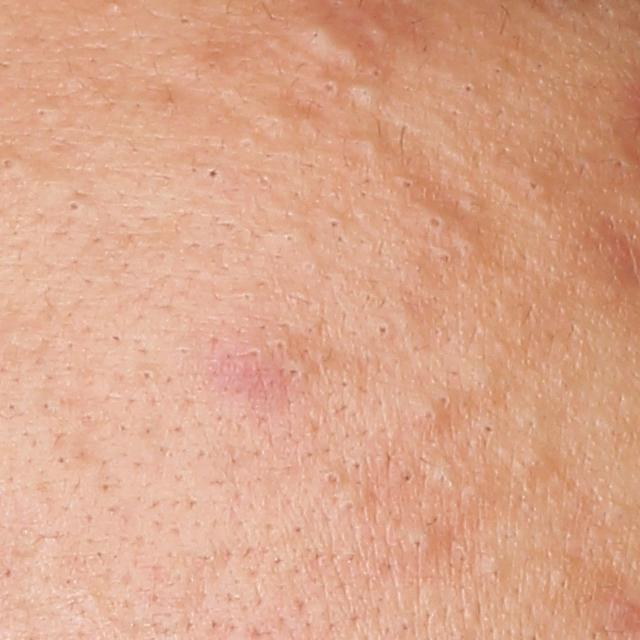comedo: (297, 19, 338, 59), (345, 128, 387, 161), (403, 528, 436, 555), (33, 103, 61, 129), (484, 555, 507, 580), (522, 177, 547, 200), (268, 331, 290, 356), (424, 208, 445, 234), (318, 78, 342, 99), (478, 419, 501, 440), (321, 467, 342, 488), (137, 364, 156, 385), (104, 1, 127, 18), (66, 197, 86, 215), (203, 165, 221, 183), (374, 319, 391, 338), (460, 81, 479, 97), (398, 177, 417, 192), (367, 65, 386, 80)
